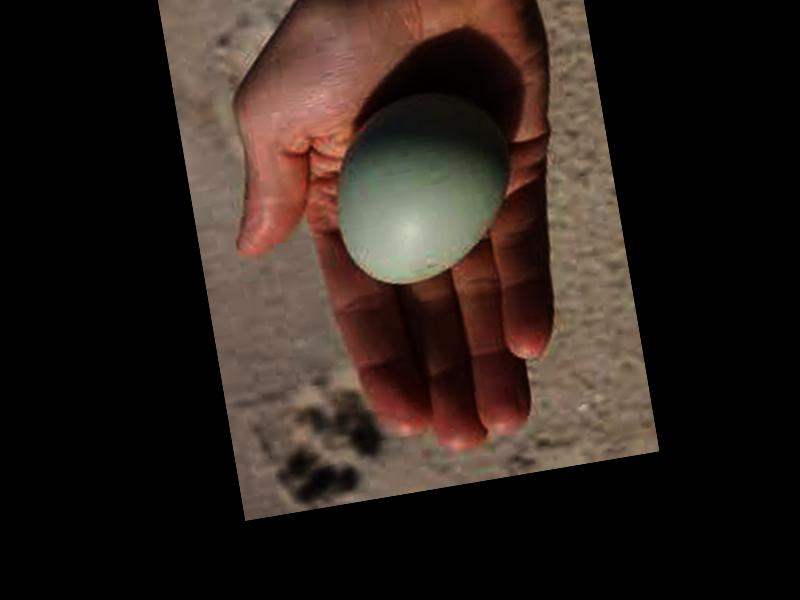Eggs: (324, 83, 527, 289)
